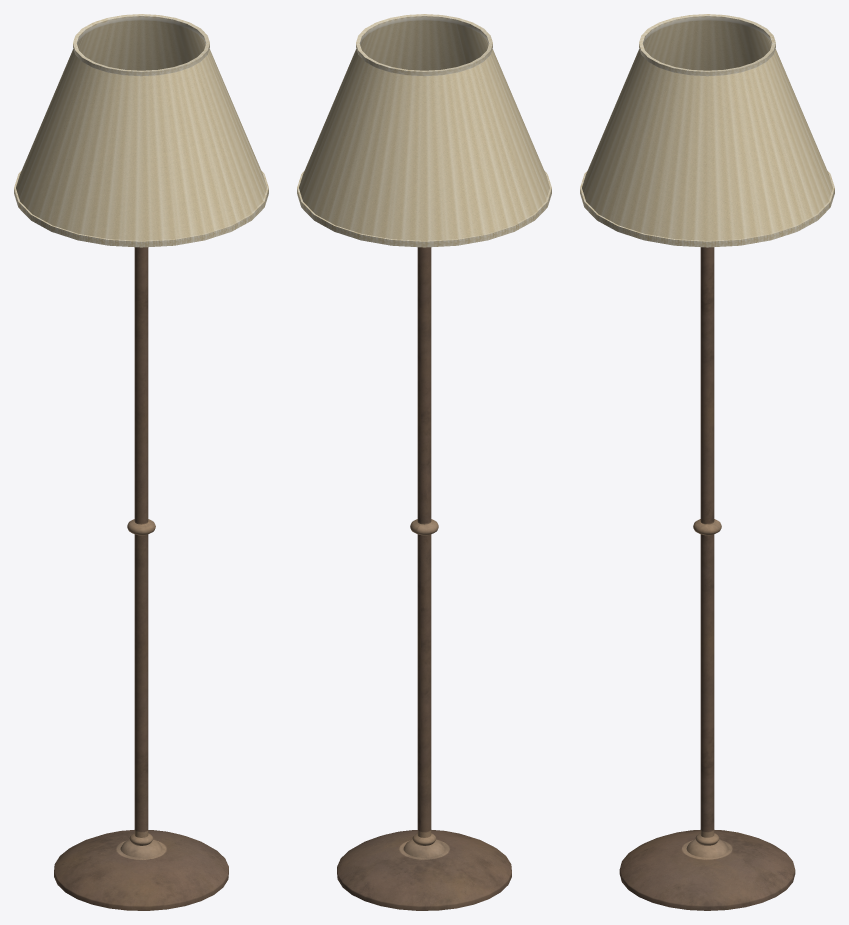
File: LightFloorRetro01.FBX
The picture shows the model from 3 angles, left to right: view 1: azimuth 30°, elevation 25°; view 2: azimuth 150°, elevation 25°; view 3: azimuth 270°, elevation 25°; orthographic projection.
Parts seen in each view (by area): view 1: LightFloorRetro01; view 2: LightFloorRetro01; view 3: LightFloorRetro01.
Boxes of the visible parts, x1,y1,x2,y2 form: LightFloorRetro01: (14,14,268,910); LightFloorRetro01: (297,14,551,910); LightFloorRetro01: (580,14,834,910).
Size of the model in its own units: 415 by 1493 by 415.
